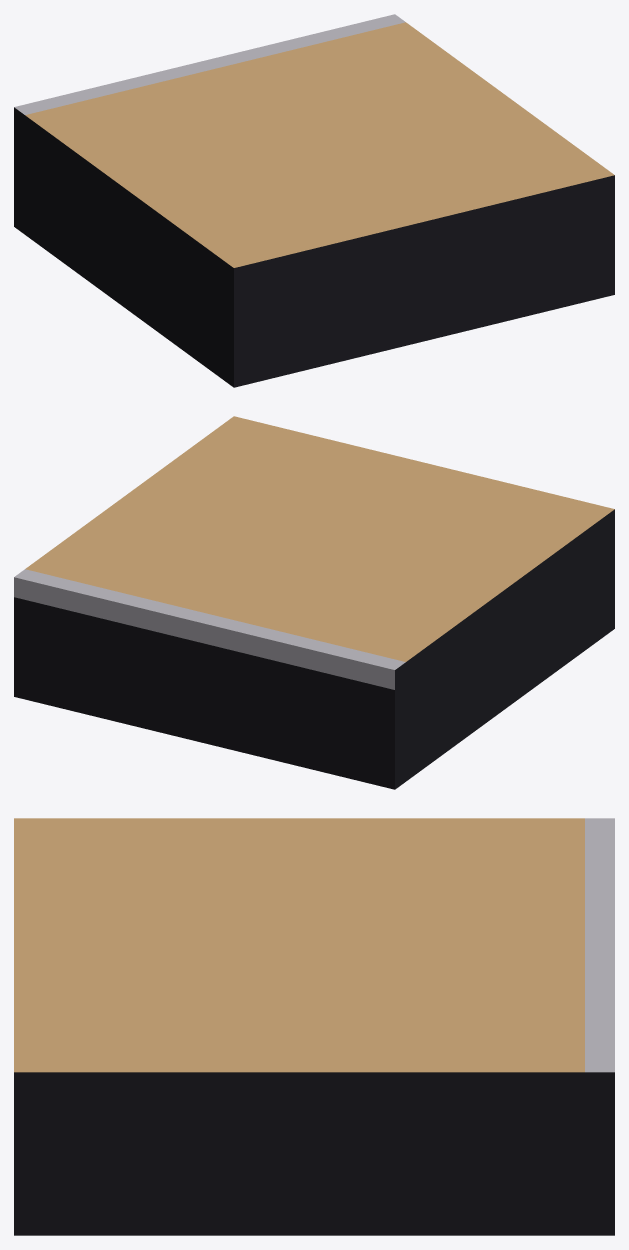
Rendered from ManPad_3.fbx.
3 views of the same model, one above another, from view 1: azimuth 30°, elevation 25°; view 2: azimuth 150°, elevation 25°; view 3: azimuth 270°, elevation 25° (orthographic). The views are drawn at different scales.
Visible parts, largest first — view 1: ManPad_3; view 2: ManPad_3; view 3: ManPad_3.
Boxes of the visible parts, left/top/right/bottom form: ManPad_3: left=14, top=14, right=614, bottom=387; ManPad_3: left=14, top=416, right=614, bottom=789; ManPad_3: left=14, top=818, right=614, bottom=1235.
Size of the model in its own units: 10 by 3 by 10.
